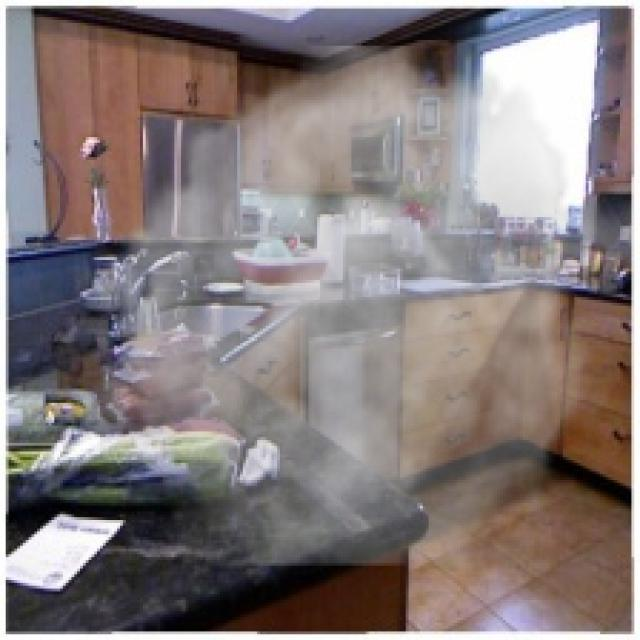Smoke: (71, 46, 628, 566)
